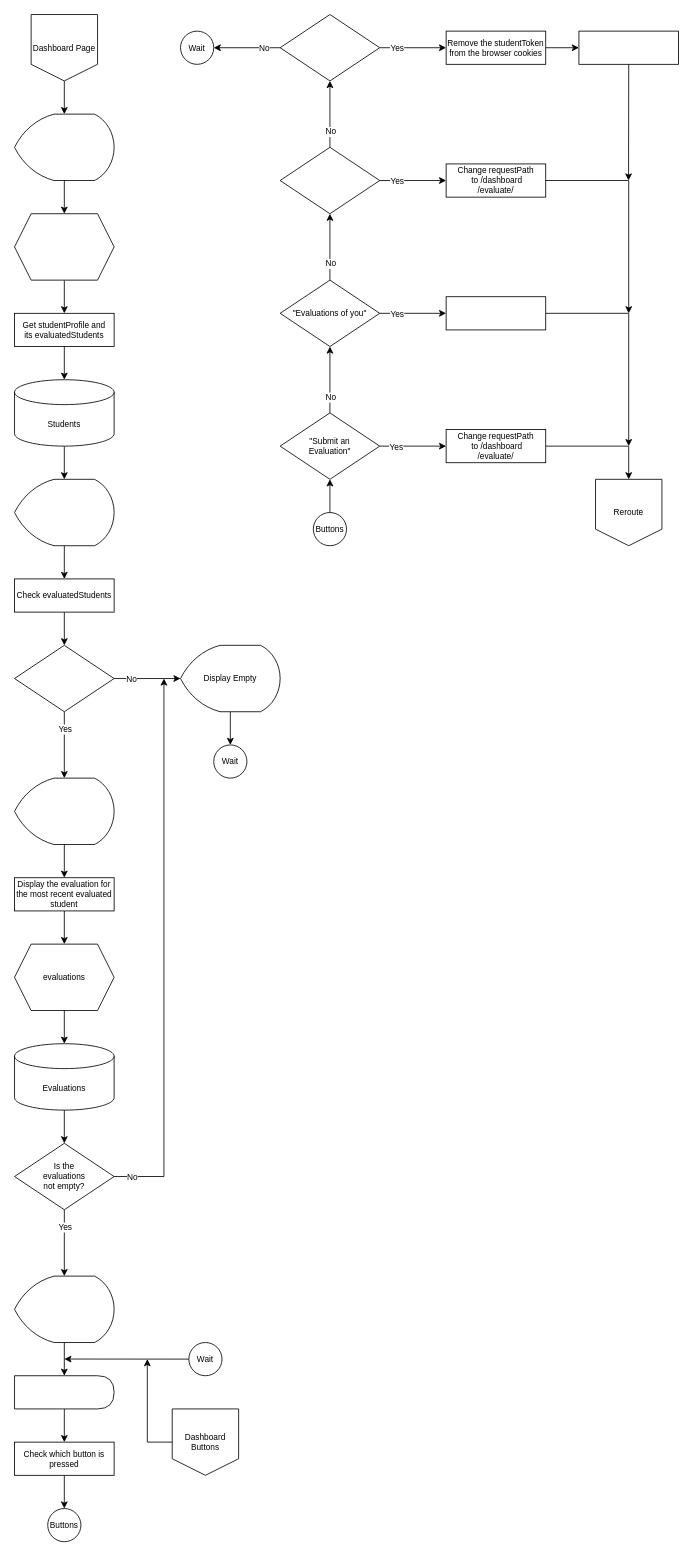
Some shapes in this 693 by 1556 pixel diagram are drawn without their labels. Each missing label, with the box of its shape:
"Evaluate": (279, 146, 380, 214)
"Logout": (279, 14, 380, 81)
Change requestPath to /dashboard /evaluationsOfYou/: (445, 296, 546, 330)
Change requestPath to /login/: (578, 30, 679, 64)
Display Dashboard Page: (14, 113, 114, 181)
Display evaluatedStudents: (14, 777, 114, 845)
Display evaluations: (14, 1275, 114, 1343)
Display studentProfile: (14, 478, 114, 546)
Is the evaluatedStudents not empty?: (14, 644, 114, 712)
studentProfile evaluatedStudents: (14, 213, 114, 280)
Wait for button press: (14, 1375, 114, 1409)
